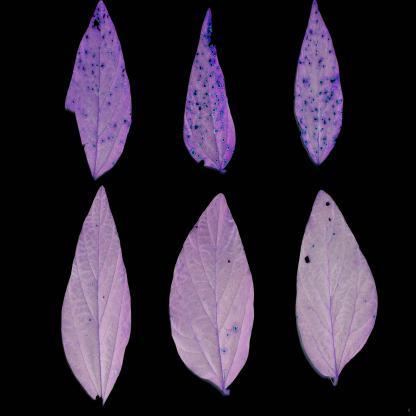Soyabean leaf: (167, 192, 256, 394), (294, 188, 380, 387), (59, 184, 134, 404)
